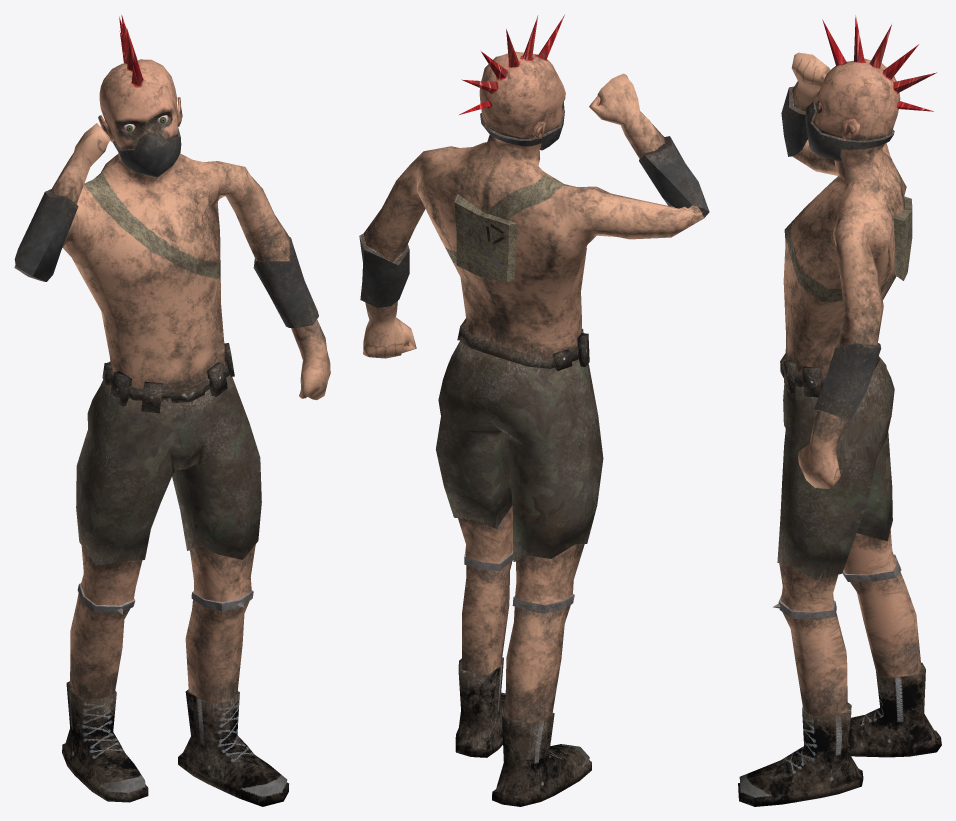
The model's file is Anim_perder_1_npc2.0025.obj.
The picture shows the model from 3 angles, left to right: view 1: azimuth 30°, elevation 25°; view 2: azimuth 150°, elevation 25°; view 3: azimuth 270°, elevation 25°; orthographic projection. The views are drawn at different scales.
Parts seen in each view (by area): view 1: polySurface1; view 2: polySurface1; view 3: polySurface1.
Boxes of the visible parts, box(x1,y1,x2,y2) form: polySurface1: box(14, 15, 330, 806); polySurface1: box(359, 15, 709, 806); polySurface1: box(738, 15, 941, 806).
Bounding box in the file's own units: 4.61 × 10.1 × 2.52.
Materials: 2 (2 with a texture image).
